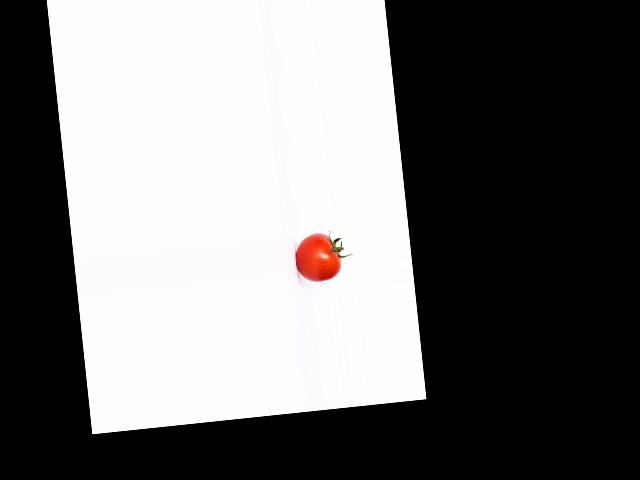tomato: (294, 231, 343, 284)
